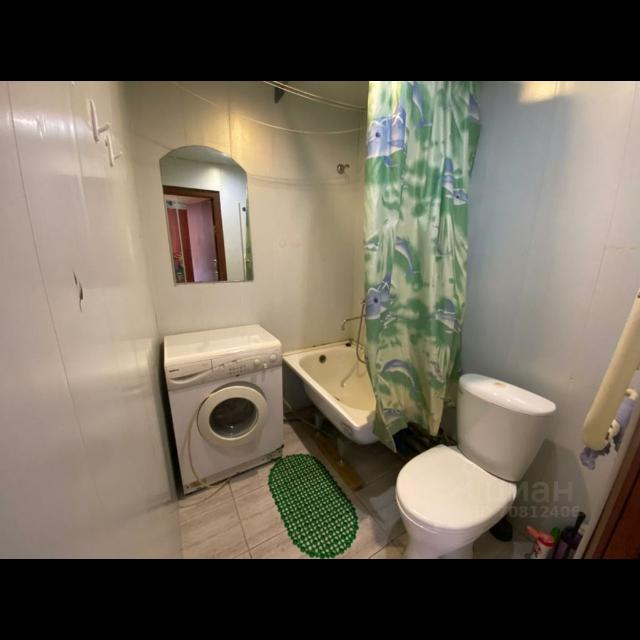Washing-Machine: (162, 327, 290, 496)
